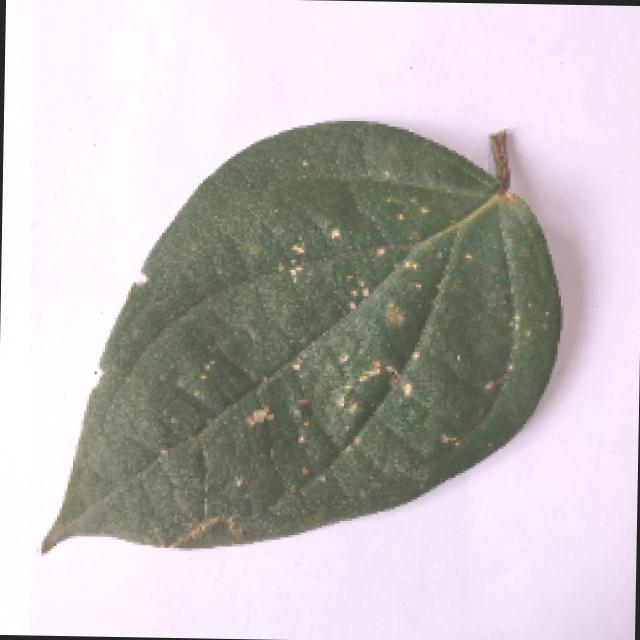pollu-disease: (41, 113, 574, 562)
